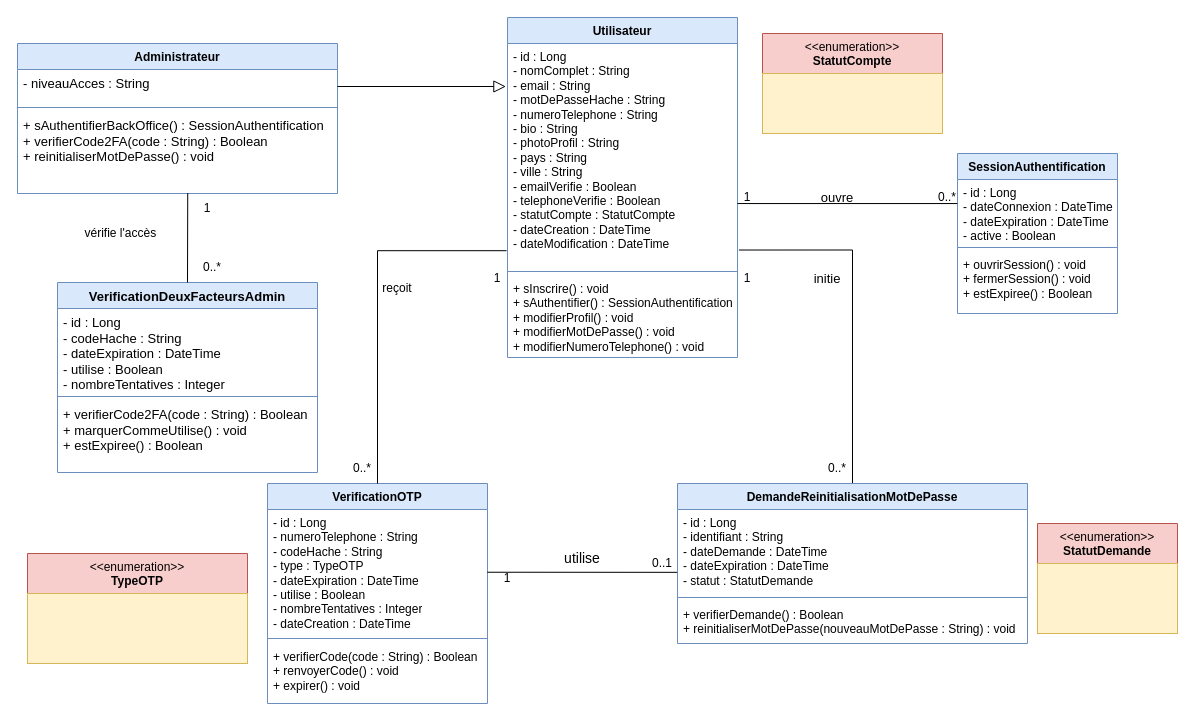
Image size: 1195x724. Some labels were removed from this diagram. Here are the shapes that lost their labels. From the top down, the centre of each, then its label:
pixel 852 103: EN_ATTENTE_VERIFICATION ACTIF SUSPENDU
pixel 1107 598: EN_ATTENTE VALIDEE EXPIREE ANNULEE
pixel 137 628: INSCRIPTION CHANGEMENT_TELEPHONE REINITIALISATION_MOT_DE_PASSE
